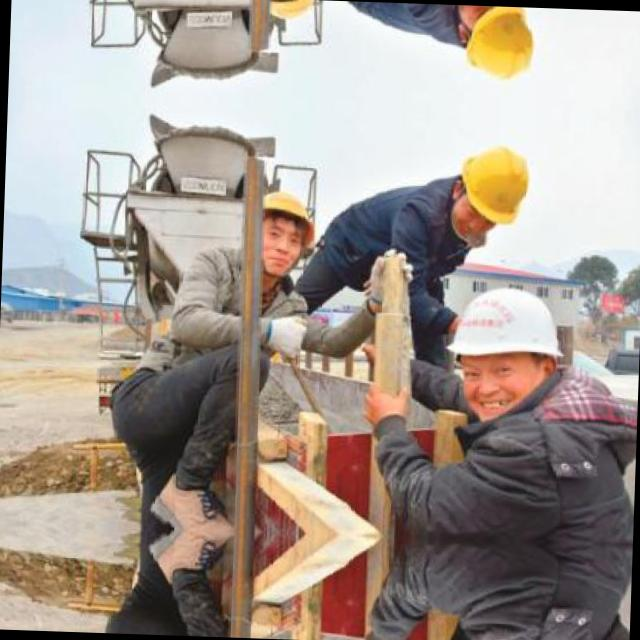helmet: (442, 274, 574, 416), (446, 135, 541, 249), (450, 5, 546, 90), (248, 180, 322, 276), (256, 0, 330, 31)
